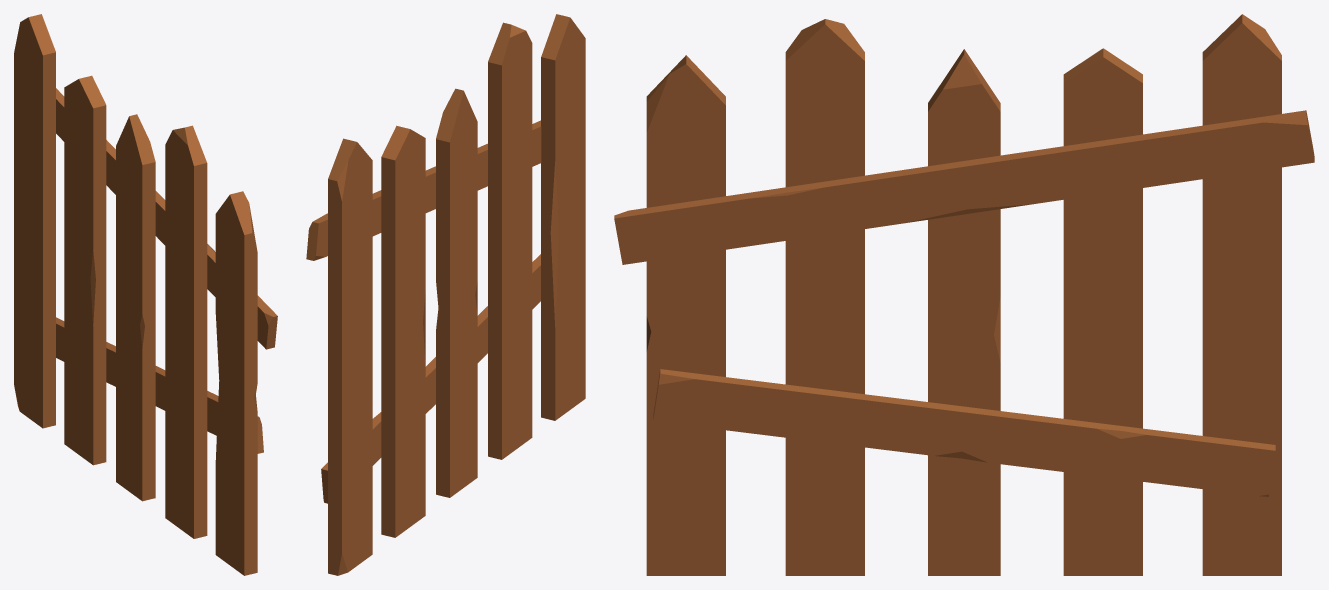
Rendered from fence3.fbx.
3 renders of one model, left to right at view 1: azimuth 30°, elevation 25°; view 2: azimuth 150°, elevation 25°; view 3: azimuth 270°, elevation 25°, orthographic. The views are drawn at different scales.
Visible parts, largest first — view 1: Cube.002; view 2: Cube.002; view 3: Cube.002.
Part boxes in pixels (bbox=[...]): Cube.002: bbox=[14, 14, 277, 575]; Cube.002: bbox=[306, 14, 585, 575]; Cube.002: bbox=[614, 14, 1314, 575].
Size of the model in its own units: 6.2 by 107 by 123.
